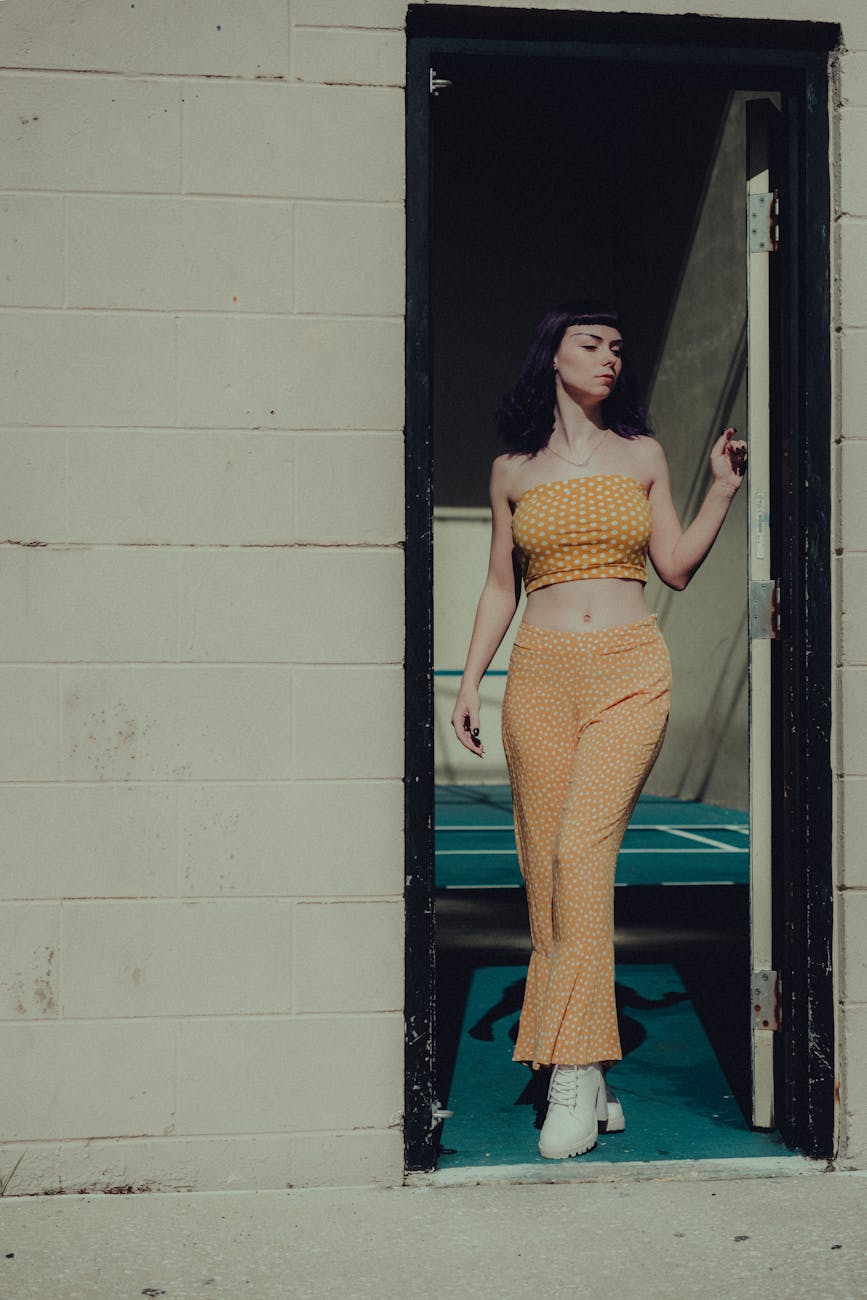crop_top: (495, 468, 673, 601)
